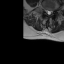CCS_stenosis: (48, 8, 50, 16)
LFS_stenosis: (53, 8, 55, 13)
LLS_normal: (50, 8, 52, 15)
RFS_normal: (44, 7, 46, 14)
RLS_normal: (46, 8, 48, 14)
